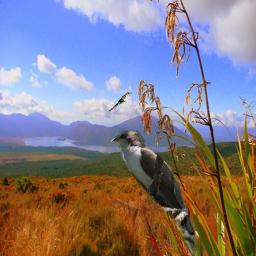Cuckoo: (111, 130, 206, 256), (108, 92, 132, 112)
